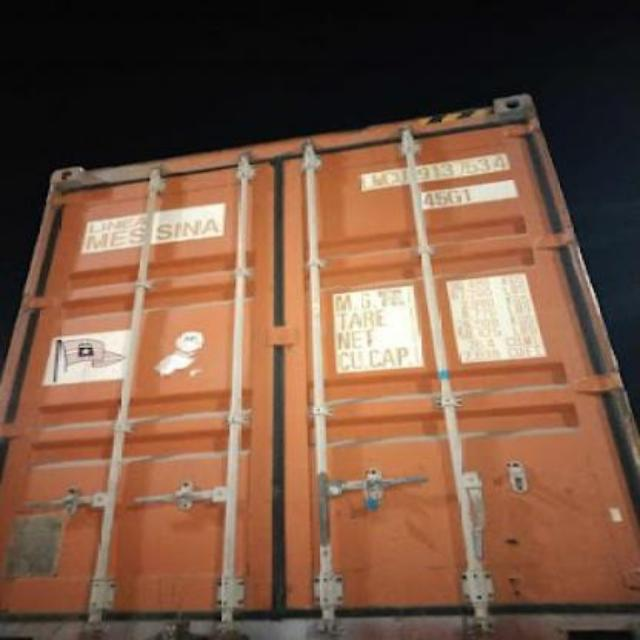1: (430, 161, 440, 179)
3: (478, 152, 492, 175), (441, 158, 454, 178)
4: (494, 152, 510, 170)
5: (464, 142, 480, 178)
7: (450, 147, 466, 183)
9: (414, 163, 430, 179)
C: (382, 165, 394, 189)
L: (358, 166, 372, 194)
M: (372, 167, 386, 190)
U: (394, 162, 412, 184)
